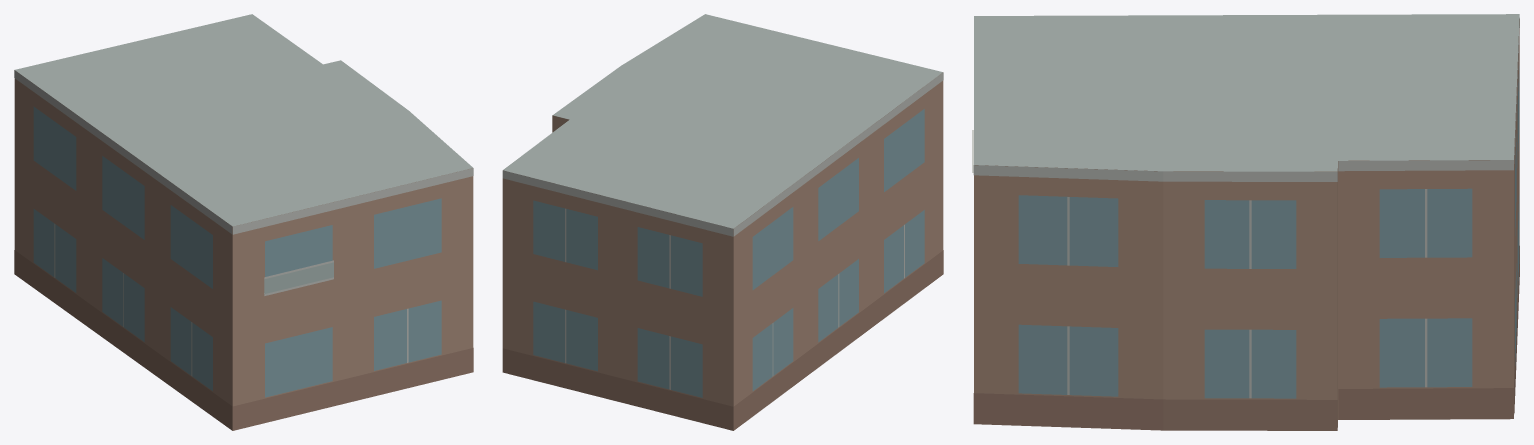
File: survey-upis-32511035.glb
3 renders of one model, left to right at view 1: azimuth 30°, elevation 25°; view 2: azimuth 150°, elevation 25°; view 3: azimuth 270°, elevation 25°, orthographic. The views are drawn at different scales.
Visible parts, largest first — view 1: survey-upis-32511035.tmp; view 2: survey-upis-32511035.tmp; view 3: survey-upis-32511035.tmp.
Part boxes in pixels (x1=…): survey-upis-32511035.tmp: x1=14, y1=14, x2=473, y2=430; survey-upis-32511035.tmp: x1=502, y1=14, x2=943, y2=430; survey-upis-32511035.tmp: x1=972, y1=14, x2=1519, y2=430.
Bounding box in the file's own units: 7.97 × 6.1 × 11.69.
